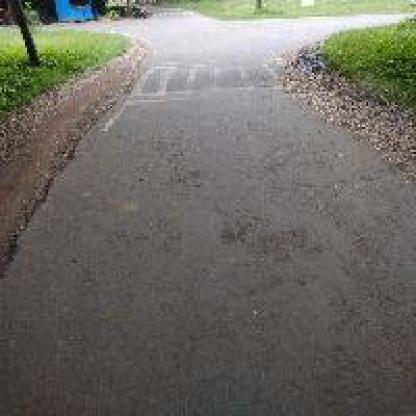Speed Bump: (122, 54, 278, 106)
